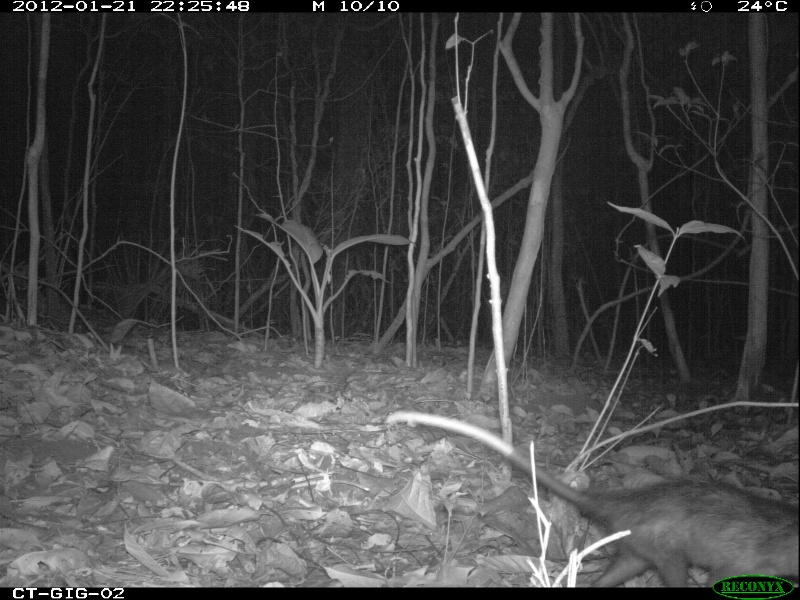opossum: (389, 408, 800, 584)
